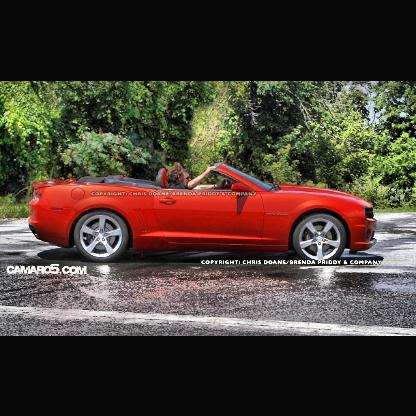Chevrolet Camaro Convertible 2012: (30, 161, 383, 270)
